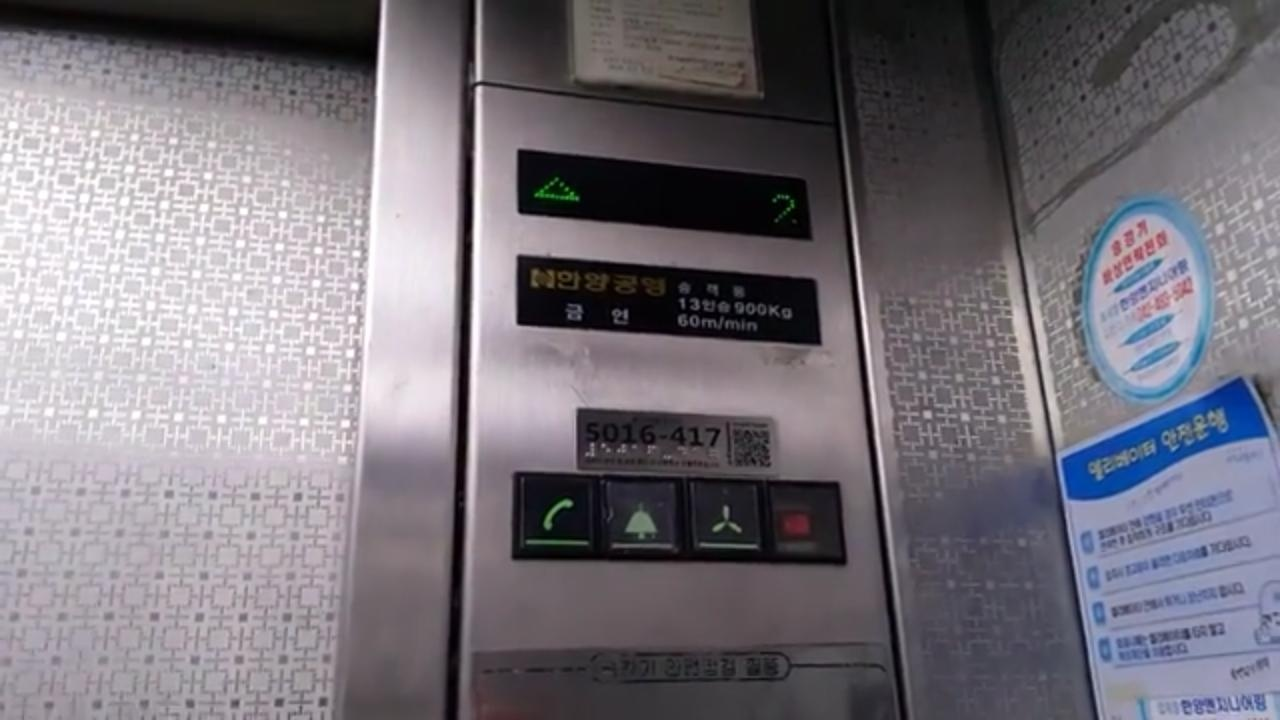alarm: (597, 470, 684, 562)
bt_switch: (766, 476, 850, 563)
call: (510, 469, 598, 561)
fan: (683, 476, 767, 563)
led: (513, 144, 816, 244)
